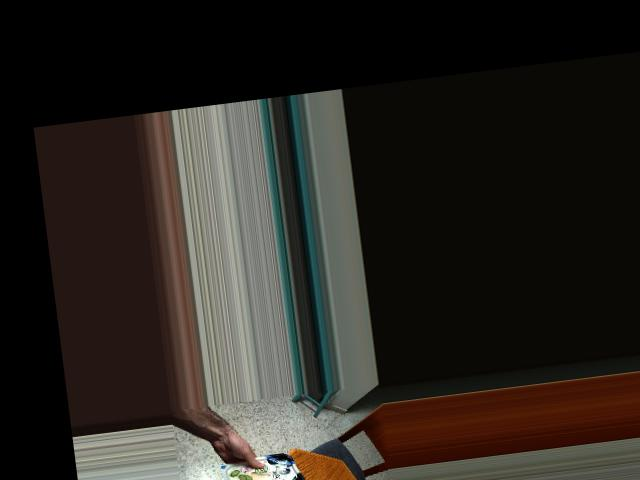cheese: (222, 443, 302, 480)
